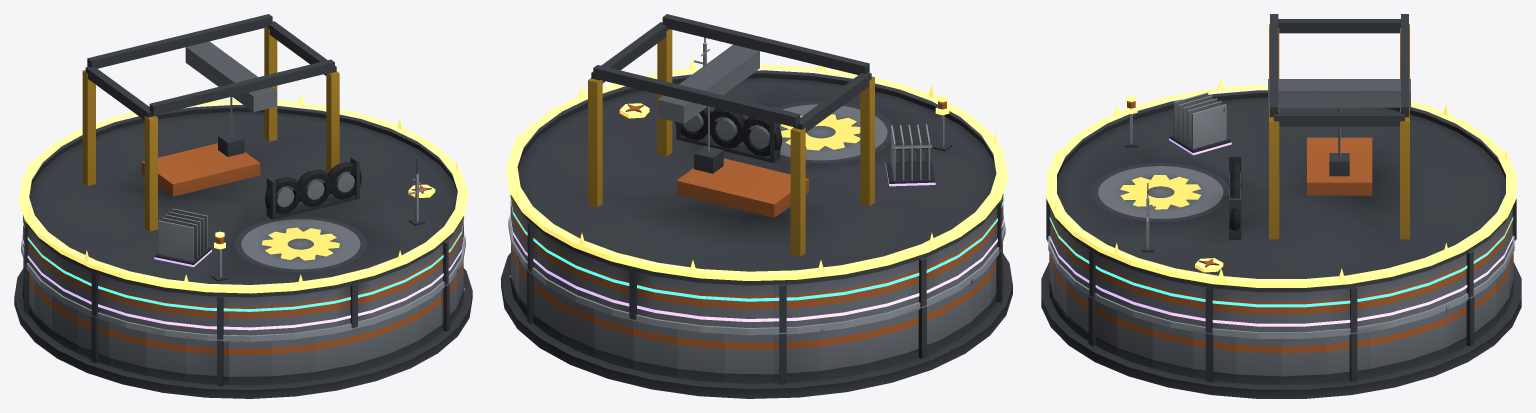
File: parts_works_s_far.glb
3 renders of one model, left to right at view 1: azimuth 30°, elevation 25°; view 2: azimuth 150°, elevation 25°; view 3: azimuth 270°, elevation 25°, orthographic. The views are drawn at different scales.
Parts seen in each view (by area): view 1: Roof, Base, L5, L4, L2, L3; view 2: Roof, Base, L5, L2, L4, L3; view 3: Roof, Base, L5, L4, L2, L3.
Part boxes in pixels (bbox=[...]): Roof: bbox=[23, 14, 463, 339]; Base: bbox=[14, 259, 472, 398]; L5: bbox=[19, 93, 467, 293]; L4: bbox=[22, 208, 464, 330]; L2: bbox=[21, 159, 465, 341]; L3: bbox=[22, 215, 464, 311]; Roof: bbox=[510, 14, 1003, 332]; Base: bbox=[501, 242, 1012, 398]; L5: bbox=[506, 58, 1007, 280]; L2: bbox=[508, 37, 1005, 335]; L4: bbox=[509, 124, 1004, 321]; L3: bbox=[509, 193, 1004, 301]; Roof: bbox=[1046, 14, 1516, 332]; Base: bbox=[1041, 239, 1521, 398]; L5: bbox=[1046, 78, 1516, 287]; L4: bbox=[1049, 92, 1513, 326]; L2: bbox=[1048, 183, 1514, 338]; L3: bbox=[1049, 217, 1513, 307].
Bounding box in the file's own units: 11.74 × 6.33 × 11.74.
